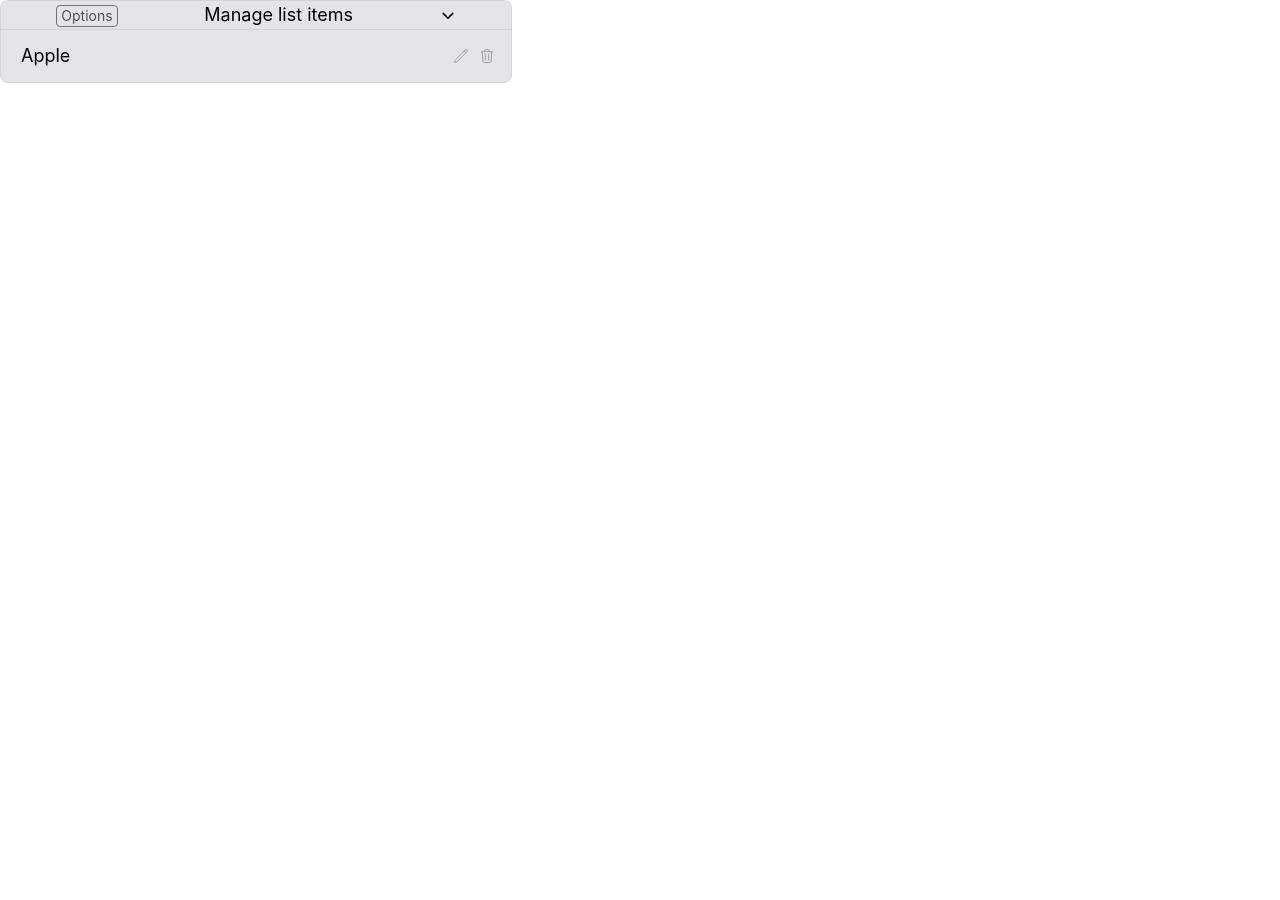
Test: ListItems › opens the edit dialog pre-filled with the item label when Edit is clicked
Click the button named "edit apple". click: (461, 56)
box: left=453, top=48, right=469, bottom=64
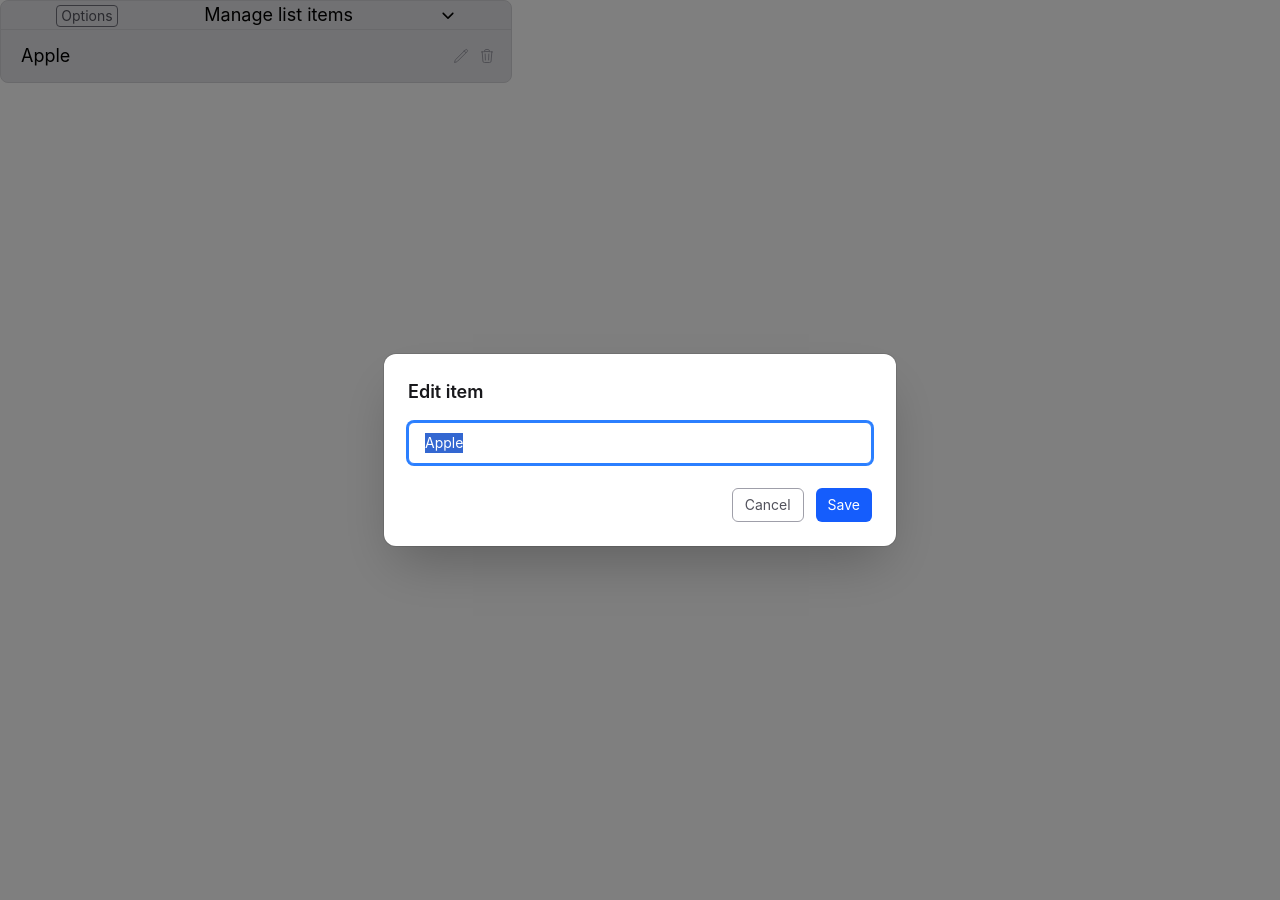
Now the dialog is shown, box left=384, top=354, right=896, bottom=546
Now the field named "Edit item" holds "Apple", box left=408, top=422, right=872, bottom=464
